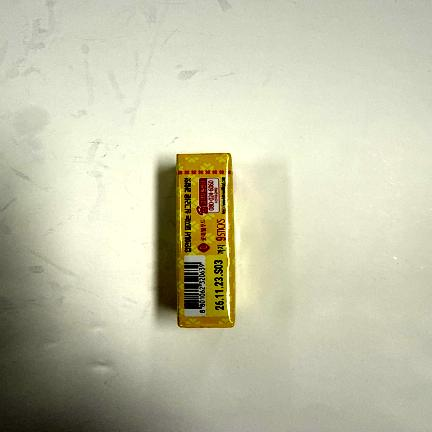gum_yellow: (175, 153, 236, 329)
